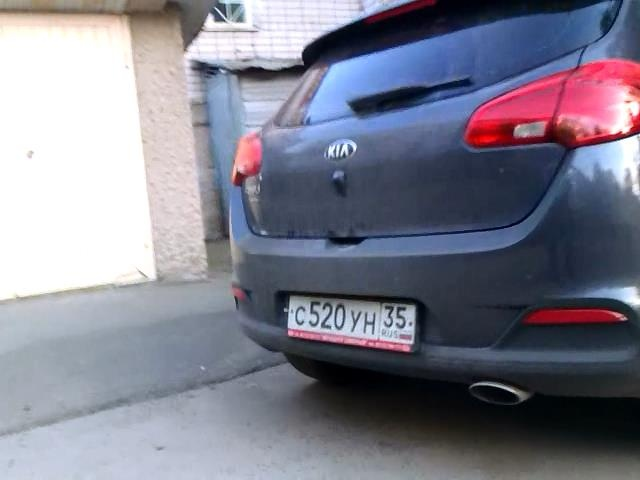car license plate: (286, 292, 417, 362)
